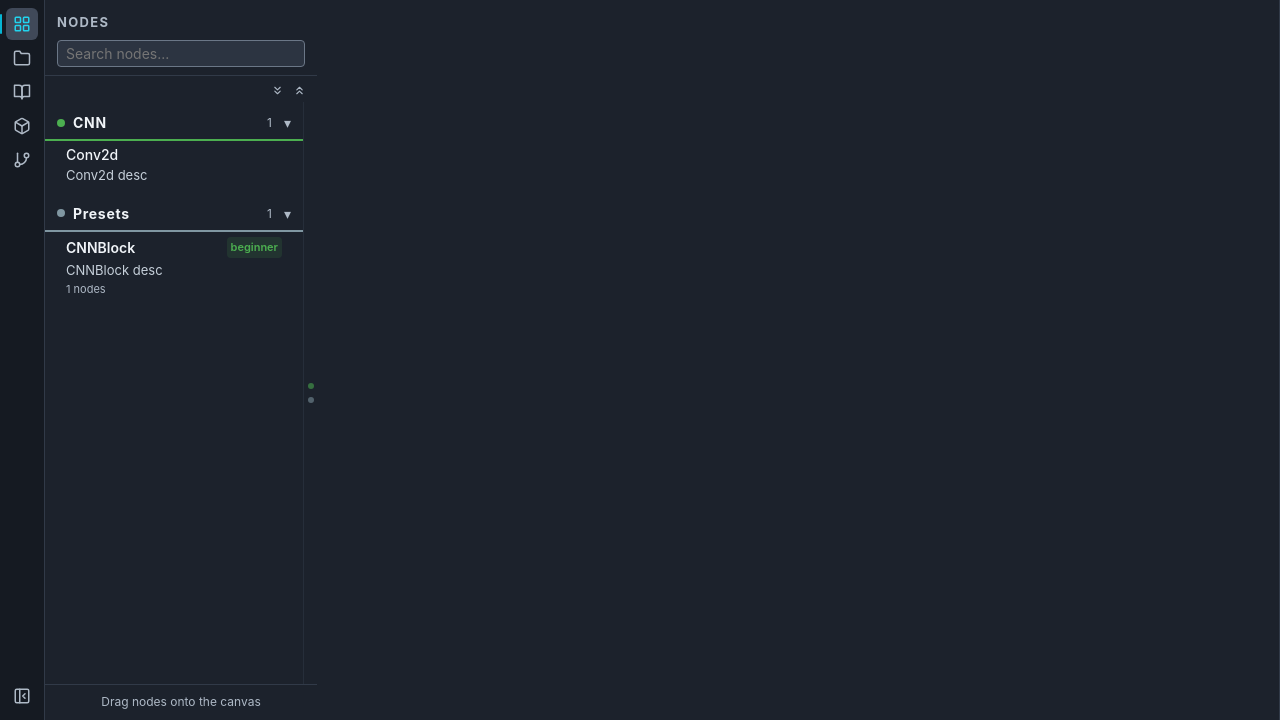
it: NodePalette (sidebar shell) › mounts the Source Control panel when the fifth tab is opened
Step 1. Click the tab named "Source Control" → point(22, 160), box left=6, top=144, right=38, bottom=176
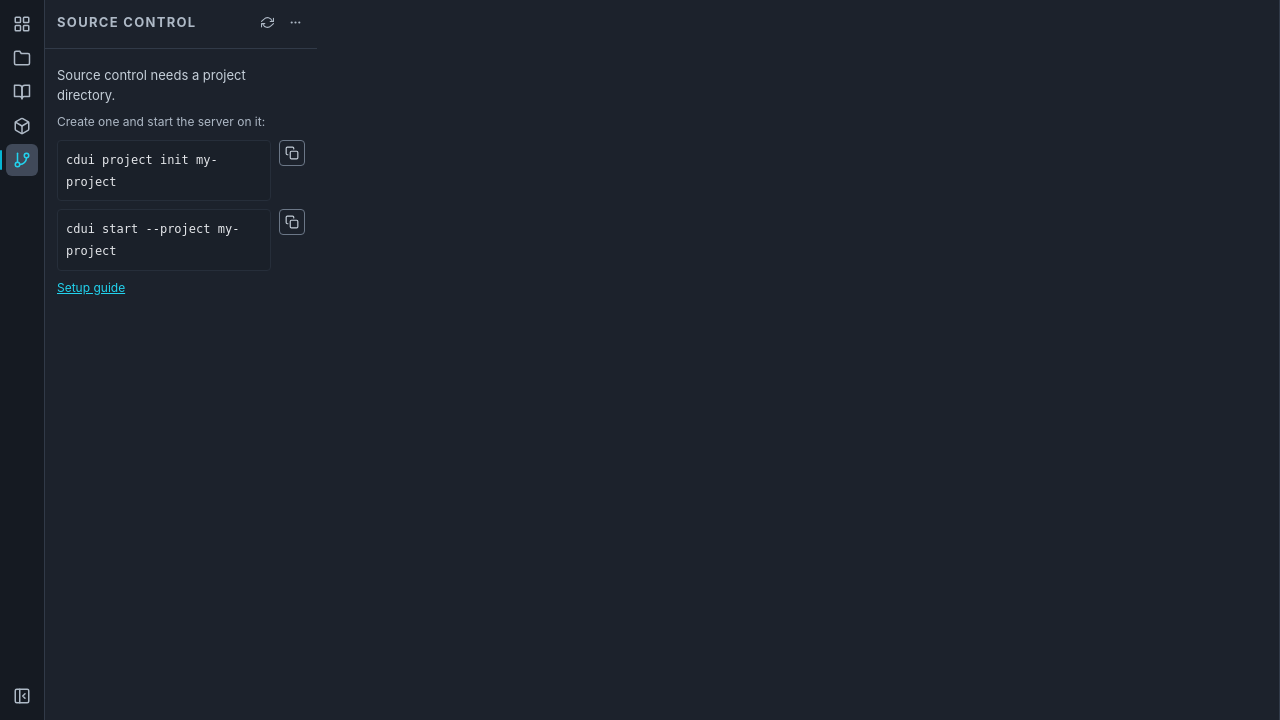
Now the text "Source Control" is shown, box left=57, top=14, right=196, bottom=30
Now the text "Conv2d" is gone
